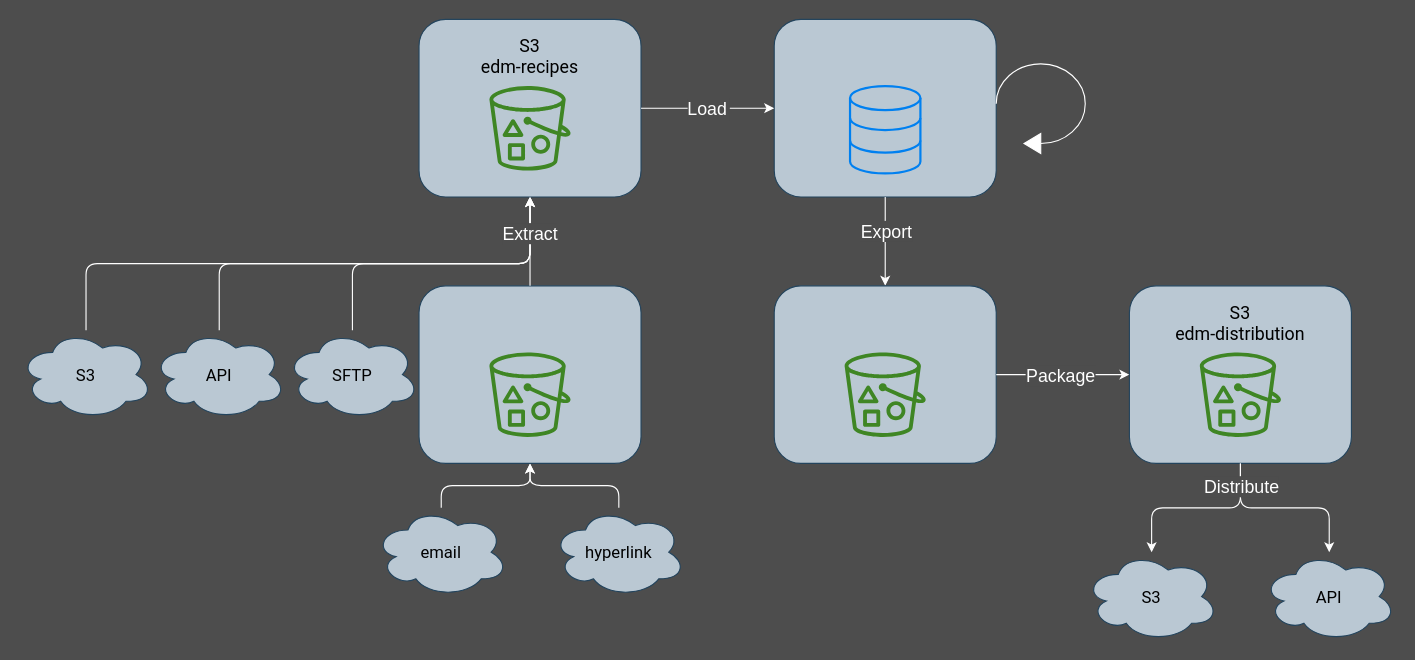
The diagram is 1415 pixels wide and 660 high, and some of its shapes have lost their labels. The shapes that lost their labels are listed below. From the top down, each one's box as (x1, y1, x2, y2) in pixels, then its label:
(773, 18, 996, 197): Postgres edm-data
(995, 63, 1085, 154): Transform
(418, 285, 641, 463): S3 edm-inbox
(773, 285, 996, 463): S3 edm-publishing
